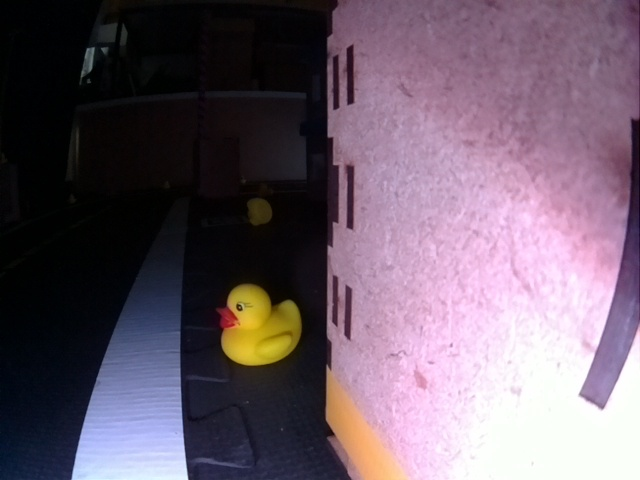Duckie: (219, 285, 301, 364), (248, 199, 270, 225)
